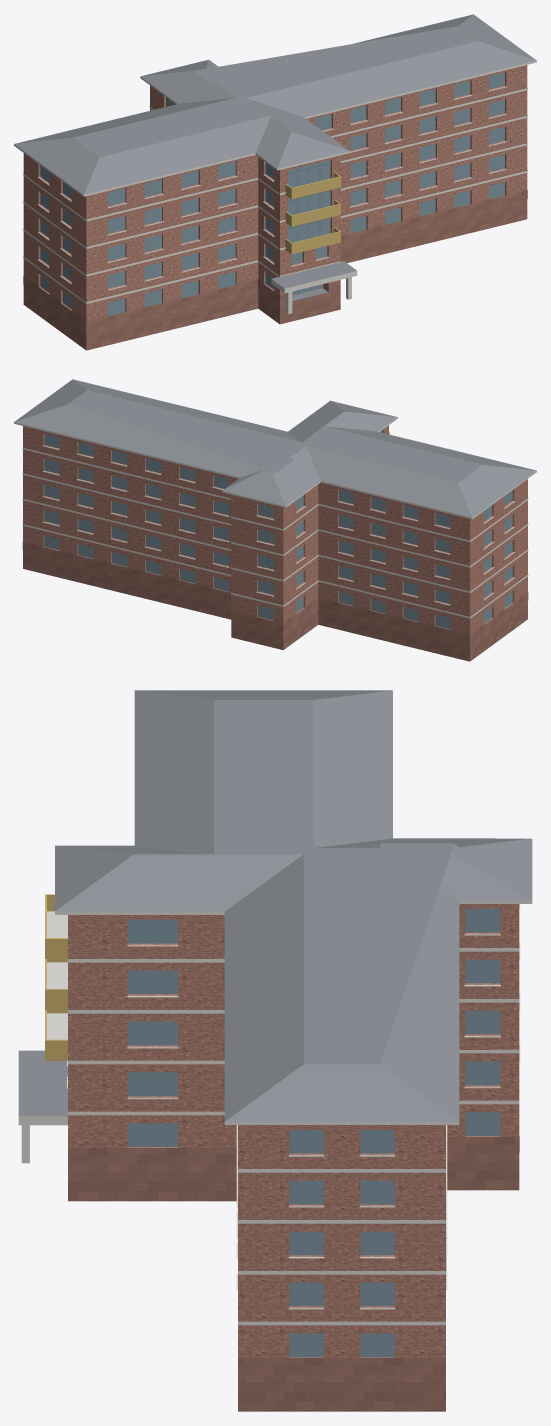
3 renders of one model, top to bottom at view 1: azimuth 30°, elevation 25°; view 2: azimuth 150°, elevation 25°; view 3: azimuth 270°, elevation 25°, orthographic. The views are drawn at different scales.
Parts seen in each view (by area): view 1: seongsilGwanN17__wall, seongsilGwanN17__roof, seongsilGwanN17__glass, seongsilGwanN17__base, seongsilGwanN17__trim, seongsilGwanN17__accent; view 2: seongsilGwanN17__wall, seongsilGwanN17__roof, seongsilGwanN17__base, seongsilGwanN17__glass, seongsilGwanN17__trim; view 3: seongsilGwanN17__roof, seongsilGwanN17__wall, seongsilGwanN17__base, seongsilGwanN17__glass, seongsilGwanN17__trim, seongsilGwanN17__accent, seongsilGwanN17__soffit.
Boxes of the visible parts, bbox=[...] form: seongsilGwanN17__wall: bbox=[23, 65, 527, 330]; seongsilGwanN17__roof: bbox=[14, 14, 536, 300]; seongsilGwanN17__glass: bbox=[40, 72, 504, 316]; seongsilGwanN17__base: bbox=[23, 190, 527, 350]; seongsilGwanN17__trim: bbox=[14, 61, 536, 303]; seongsilGwanN17__accent: bbox=[285, 172, 340, 254]; seongsilGwanN17__wall: bbox=[23, 425, 527, 642]; seongsilGwanN17__roof: bbox=[14, 379, 536, 517]; seongsilGwanN17__base: bbox=[22, 542, 528, 661]; seongsilGwanN17__glass: bbox=[44, 430, 512, 629]; seongsilGwanN17__trim: bbox=[14, 417, 536, 618]; seongsilGwanN17__roof: bbox=[18, 690, 532, 1121]; seongsilGwanN17__wall: bbox=[68, 904, 519, 1357]; seongsilGwanN17__base: bbox=[68, 1136, 519, 1411]; seongsilGwanN17__glass: bbox=[128, 908, 500, 1357]; seongsilGwanN17__trim: bbox=[18, 900, 532, 1325]; seongsilGwanN17__accent: bbox=[45, 894, 67, 1060]; seongsilGwanN17__soffit: bbox=[47, 911, 67, 1039].
Bounding box in the file's own units: 61.79 × 21.34 × 31.12.
Materials: 9 (2 with a texture image).
